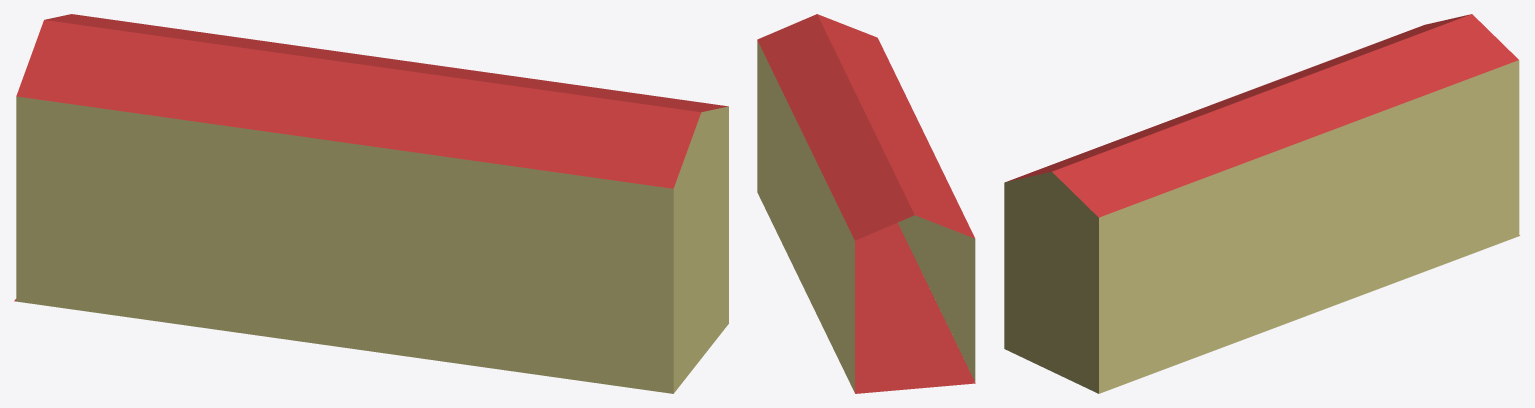
3 renders of one model, left to right at view 1: azimuth 30°, elevation 25°; view 2: azimuth 150°, elevation 25°; view 3: azimuth 270°, elevation 25°, orthographic. The views are drawn at different scales.
Visible parts, largest first — view 1: group_4, group_3; view 2: group_3, group_4, group_5; view 3: group_4, group_3.
Boxes of the visible parts, <box> form: group_4: <box>16,96,728,393</box>; group_3: <box>16,14,728,188</box>; group_3: <box>757,14,974,240</box>; group_4: <box>757,40,975,392</box>; group_5: <box>855,222,975,393</box>; group_4: <box>1004,60,1519,393</box>; group_3: <box>1005,14,1518,217</box>.
Bounding box in the file's own units: 22.51 × 24.17 × 10.33.
